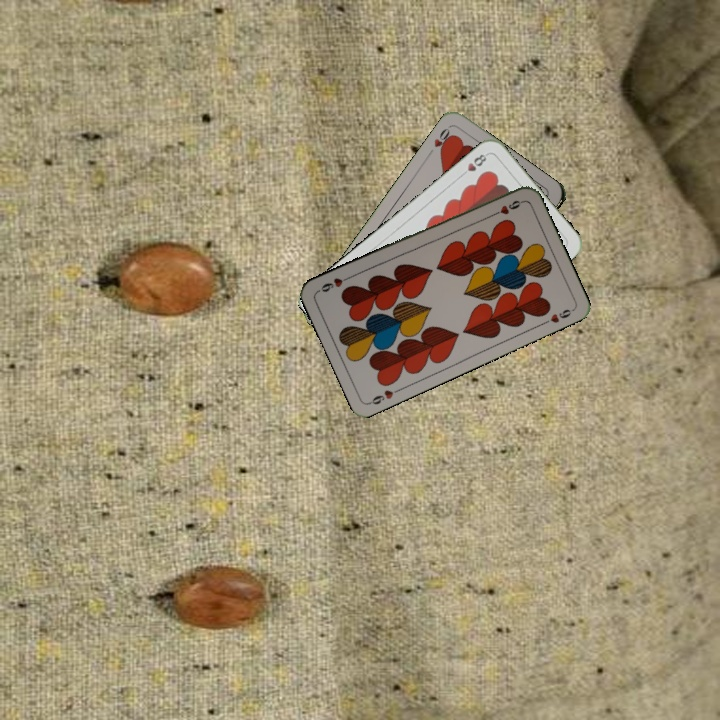H8: (456, 149, 490, 180)
H9: (365, 384, 404, 407), (487, 196, 525, 219)
HO: (424, 122, 456, 158)
